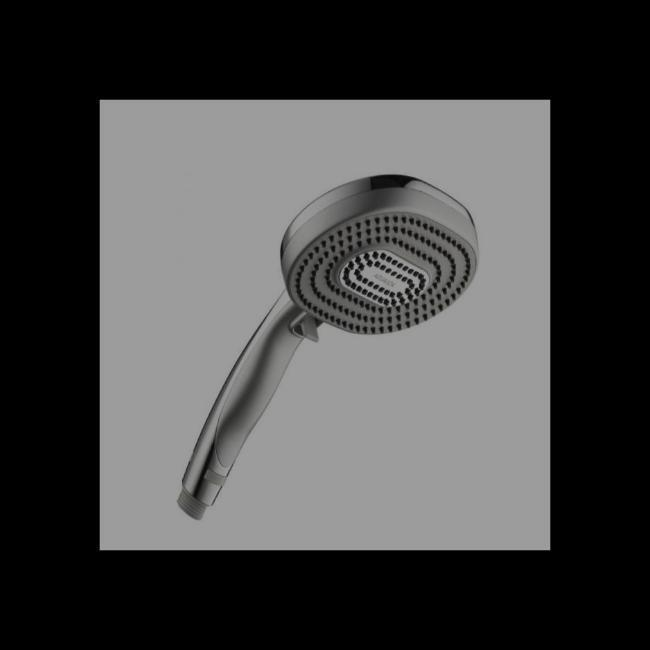Ducha: (172, 152, 489, 532)
